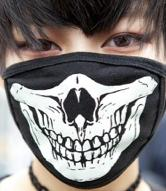with_mask: (1, 1, 166, 191)
